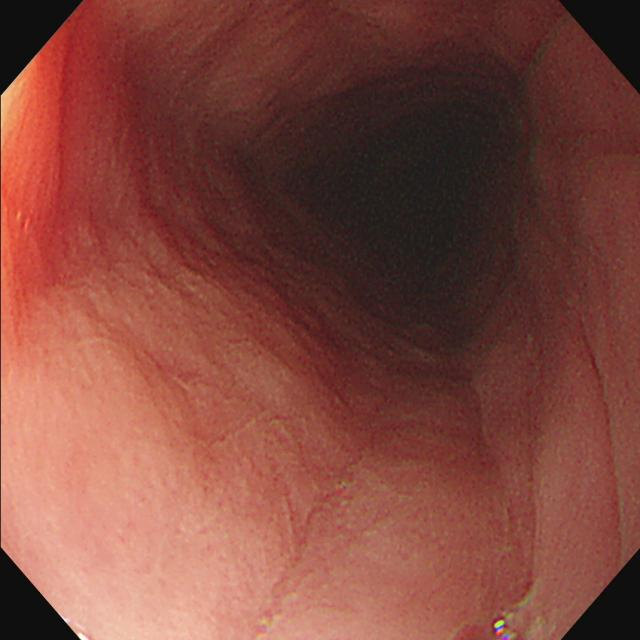E: (250, 51, 540, 355)
T: (446, 599, 546, 640)
